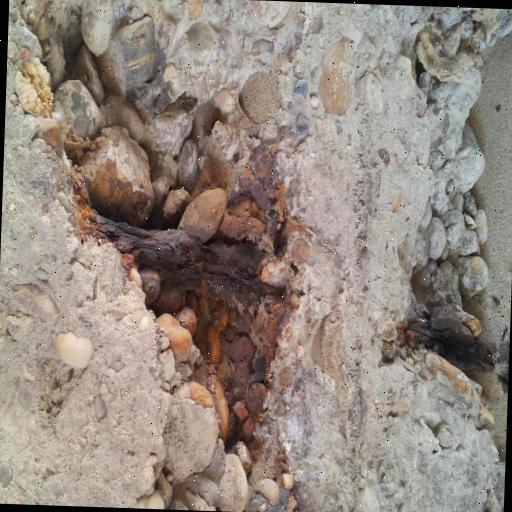spalling: (61, 122, 310, 505)
